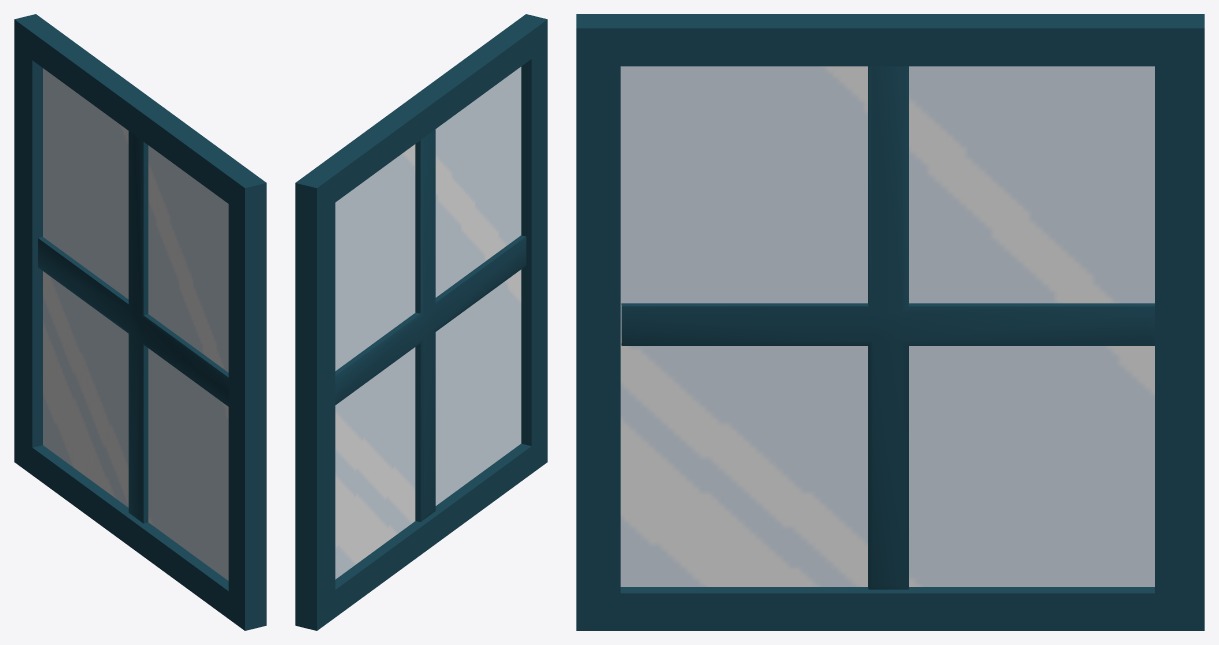
Rendered from Fenetre.FBX.
3 renders of one model, left to right at view 1: azimuth 30°, elevation 25°; view 2: azimuth 150°, elevation 25°; view 3: azimuth 270°, elevation 25°, orthographic. The views are drawn at different scales.
Parts seen in each view (by area): view 1: Fenetre; view 2: Fenetre; view 3: Fenetre.
Boxes of the visible parts, bbox=[...] form: Fenetre: bbox=[14, 14, 266, 630]; Fenetre: bbox=[295, 14, 547, 630]; Fenetre: bbox=[576, 14, 1204, 630].
Size of the model in its own units: 0.0797 by 1.54 by 1.46.
